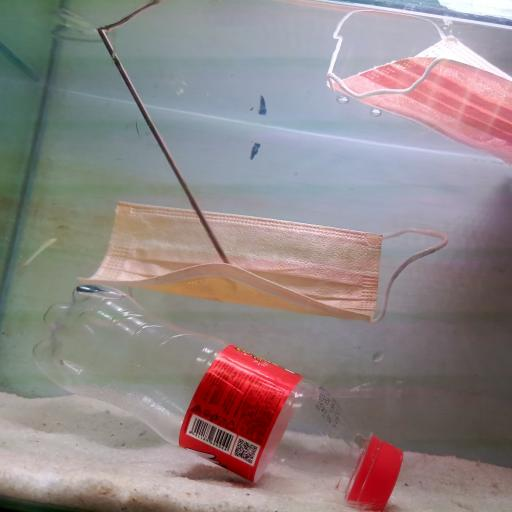bottle_cap: (356, 430, 407, 506)
mask: (70, 204, 446, 312), (323, 52, 512, 151)
plastic_bottle: (32, 281, 416, 506)
